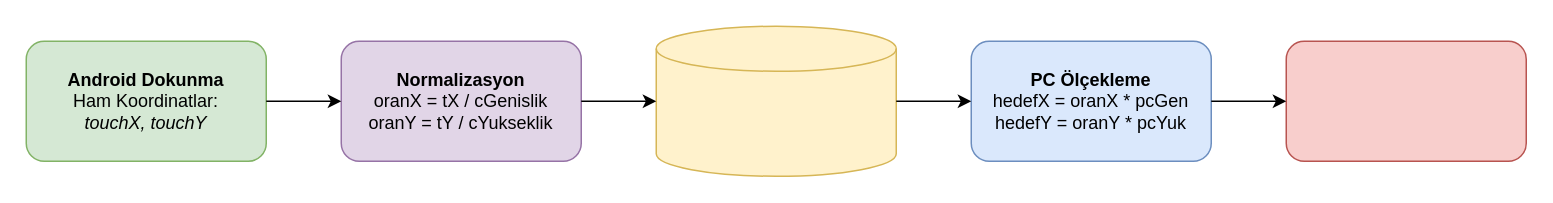
The diagram is 1553 pixels wide and 203 high, and some of its shapes have lost their labels. The box of each missing label's shape, as (x1, y1, x2, y2) in pixels:
Ağ İletimi (TCP/UDP) { x: oranX, y: oranY }: (655, 25, 896, 176)
Fare Tetiklemesi İmleci (hedefX, hedefY) konumuna taşı ve tıkla: (1285, 40, 1526, 161)
